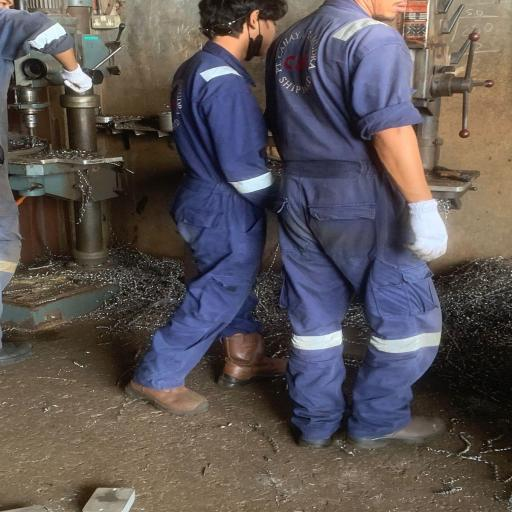Safety-shoes: (216, 331, 293, 390), (355, 414, 451, 452), (122, 384, 214, 418), (292, 431, 338, 455)
